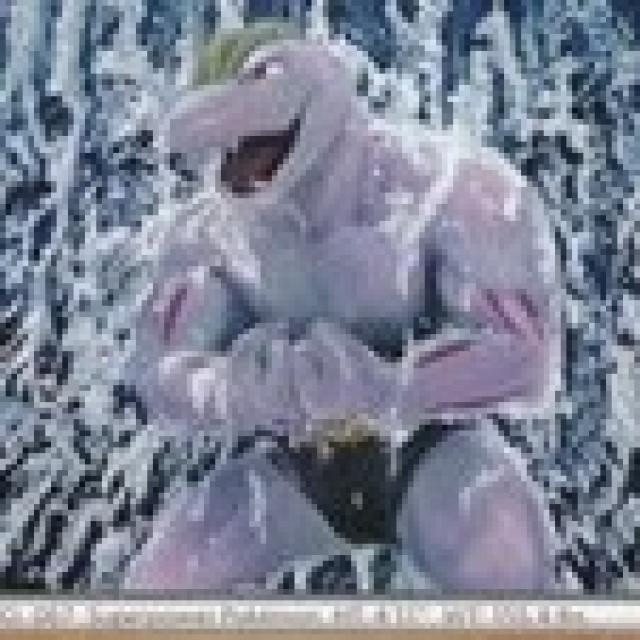Machoke: (111, 23, 589, 582)
